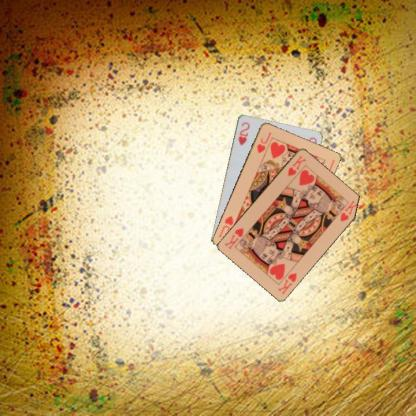2h: (235, 120, 251, 146)
Jh: (254, 130, 273, 154)
Kh: (275, 270, 298, 295), (285, 152, 307, 178)
